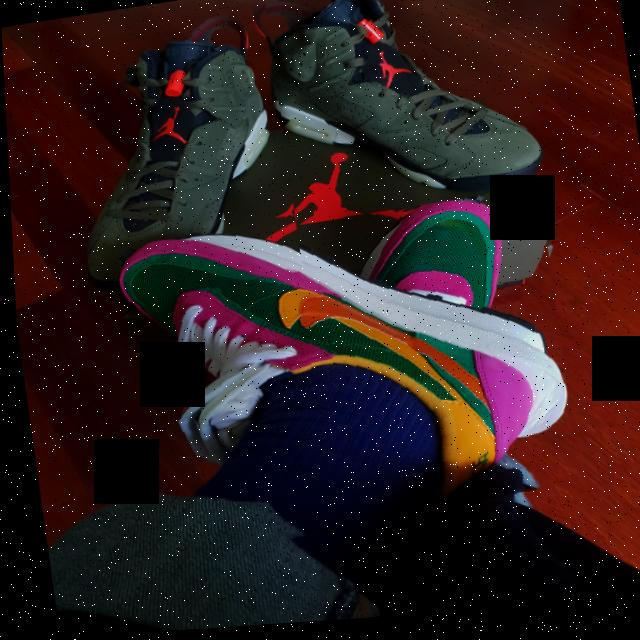shoe: (89, 179, 579, 571), (46, 5, 300, 312), (240, 0, 568, 233), (335, 198, 521, 357)
